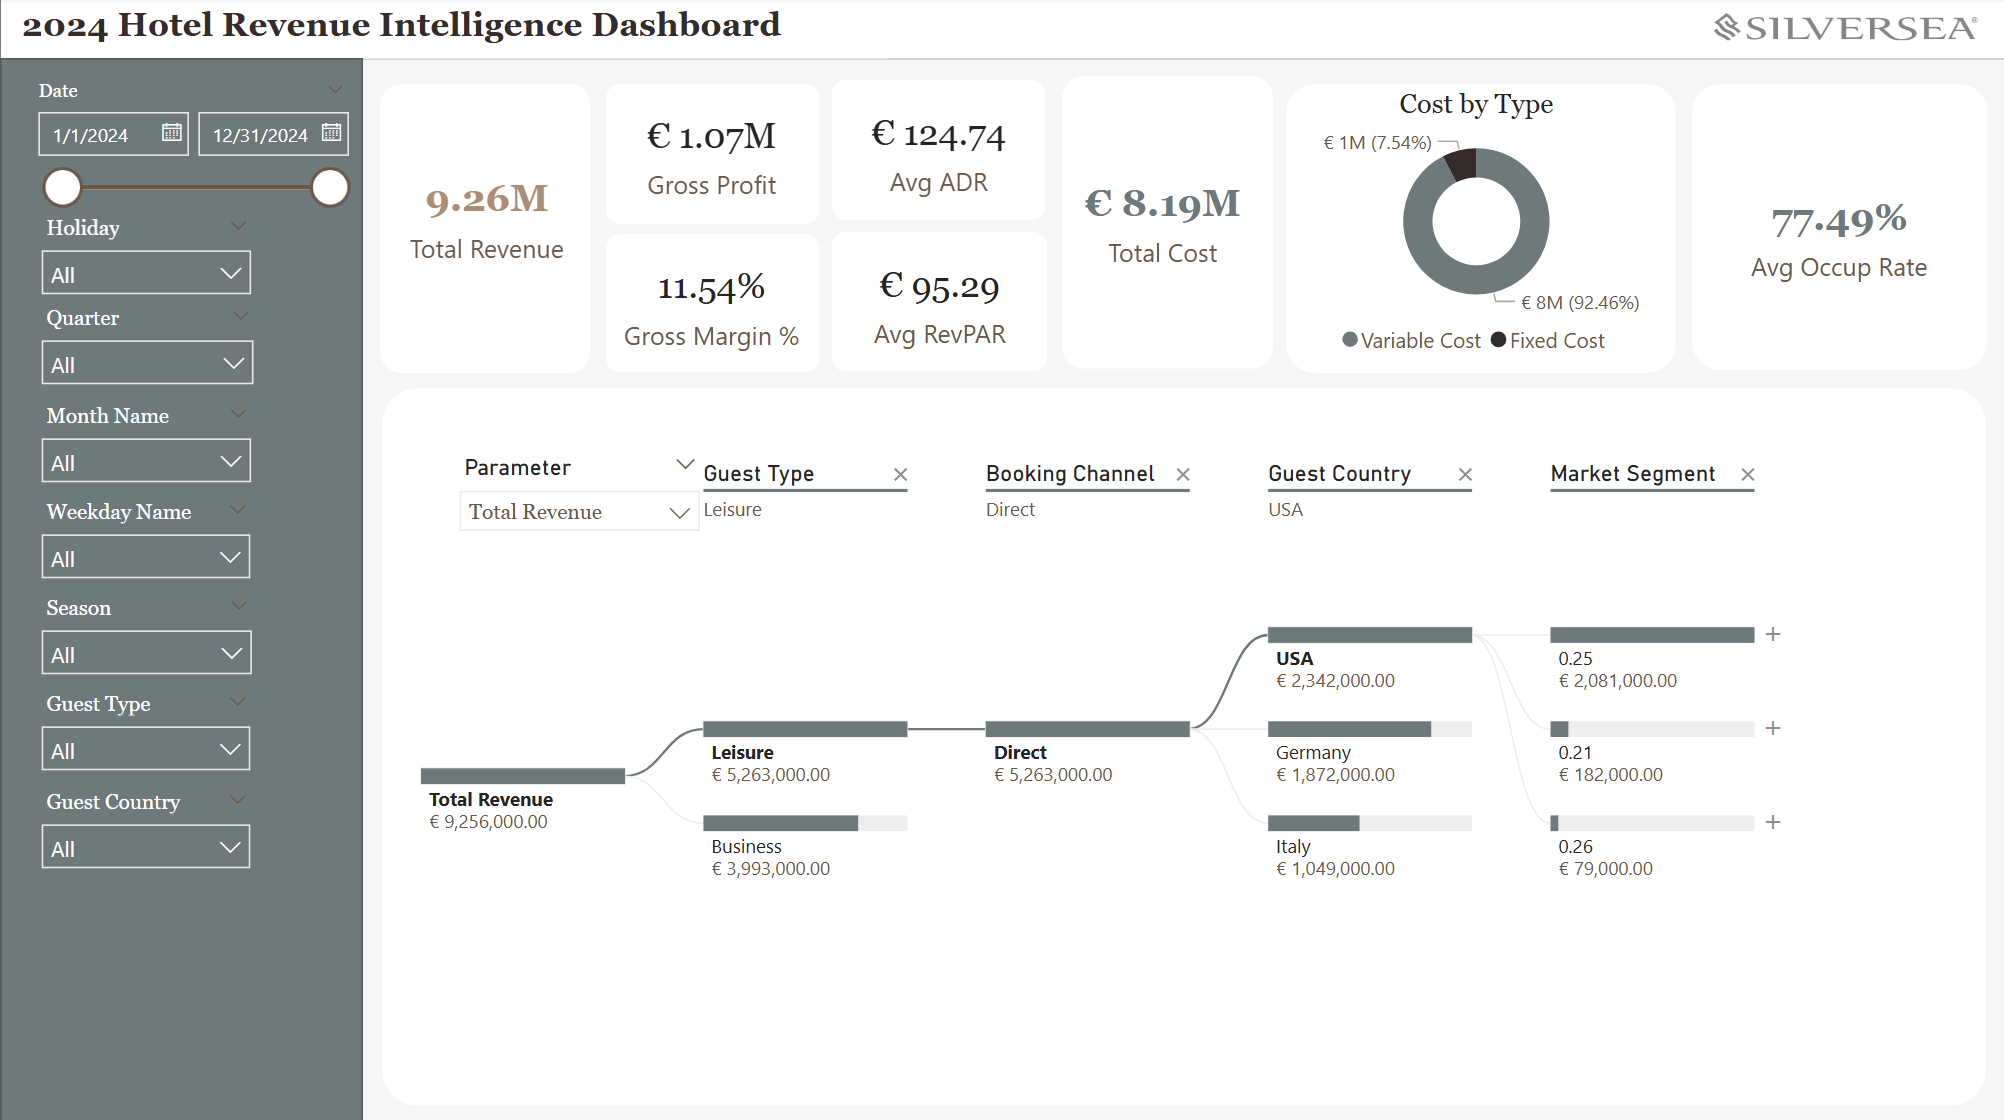

The page's visual inventory and layout, read from the dashboard file:
{"tool":"powerbi","page":{"name":"Deep Dive Analysis - update","canvas":[1280,720],"ordinal":1},"visuals":[{"type":"shape","box":[243.8,250,1022.5,457.5],"z":0},{"type":"shape","box":[0,0,1284.1,40.5],"z":1000},{"type":"textbox","box":[8.6,1.4,557.1,38.6],"z":3000},{"type":"shape","box":[0,40,231.4,680],"z":4000},{"type":"slicer","fields":{"Values":["Date Table.Date"]},"box":[11,48.3,220,121.7],"z":5000},{"type":"slicer","fields":{"Values":["Date Table.Quarter"]},"box":[16.7,193.1,155,68.3],"z":6000},{"type":"slicer","fields":{"Values":["Date Table.MonthName"]},"box":[16.7,254.4,153.3,68.3],"z":7000},{"type":"slicer","fields":{"Values":["Date Table.WeekdayName"]},"box":[16.7,315.8,152.9,68.6],"z":8000},{"type":"slicer","fields":{"Values":["Hotel book.Season"]},"box":[16.7,377.3,153.8,68.7],"z":9000},{"type":"slicer","fields":{"Values":["Hotel book.Guest_Type"]},"box":[16.7,439,152.9,68.6],"z":10000},{"type":"slicer","fields":{"Values":["Hotel book.Guest_Country"]},"box":[16.7,500.6,152.9,68.6],"z":11000},{"type":"slicer","fields":{"Values":["Hotel book.Holiday"]},"box":[16.7,135,153.3,61.7],"z":12000},{"type":"shape","box":[1078.1,56.4,188.6,182.6],"z":13000},{"type":"shape","box":[529.9,150.7,137.3,89.1],"z":14000},{"type":"shape","box":[820.4,55.6,248.6,184.3],"z":15000},{"type":"shape","box":[386.1,55.6,136,89.3],"z":16000},{"type":"shape","box":[386.1,152.1,136.4,88.2],"z":17000},{"type":"shape","box":[529.9,54.2,136,89.3],"z":18000},{"type":"card","fields":{"Values":["Hotel book.Gross Margin %"]},"box":[379.1,139.4,150,114.5],"z":19000},{"type":"card","fields":{"Values":["Hotel book.Avg RevPAR"]},"box":[507.1,123.4,183.6,143.6],"z":20000},{"type":"donutChart","title":"Cost by Type","fields":{"Y":["Hotel book.Variable Cost","Hotel book.Fixed Cost"]},"box":[800.9,59.2,281.2,179.4],"z":21000},{"type":"card","fields":{"Values":["Hotel book.Avg Occup Rate"]},"box":[1081.5,64.4,182.9,174.1],"z":22000},{"type":"shape","box":[242.6,55.6,134.3,184.3],"z":23000},{"type":"card","fields":{"Values":["Hotel book.Total Revenue"]},"box":[216.4,71.2,187.3,137.3],"z":24000},{"type":"shape","box":[676.5,51.2,134.6,186.8],"z":25000},{"type":"card","fields":{"Values":["Hotel book.Total Cost"]},"box":[661.2,87.7,159.1,110],"z":26000},{"type":"card","fields":{"Values":["Hotel book.Total Profit"]},"box":[363.7,30.3,180.9,139.1],"z":27000},{"type":"card","fields":{"Values":["Hotel book.Avg ADR"]},"box":[504.4,26.1,187.3,145.5],"z":28000},{"type":"decompositionTreeVisual","title":"Occupancy Rate & RevPAR Trend","fields":{"Analyze":["DAX.Total Revenue"],"ExplainBy":["Hotel book.Guest_Type","Hotel book.Booking_Channel","Hotel book.Guest_Country","Hotel book.Market_Segment","Date Table.Season","Hotel book.Holiday","Hotel book.Marketing_Spend","Hotel book.Compliment","Hotel book.Complaints"]},"box":[238.6,278.6,1020,414.3],"z":29000},{"type":"slicer","fields":{"Values":["Parameter.Parameter"]},"box":[282.9,287.1,172.9,62.9],"z":30000},{"type":"textbox","box":[17,574.4,199.2,135.9],"z":30001}]}

Visuals, with their boxes in screenshot pixels (x1, y1, x2, y2), scaled from the page's 1280x720 canvas onto the 2004x1120 screenshot:
shape: pyautogui.locateOnScreen(382, 389, 1983, 1101)
shape: pyautogui.locateOnScreen(0, 0, 2003, 63)
textbox: pyautogui.locateOnScreen(13, 2, 886, 62)
shape: pyautogui.locateOnScreen(0, 62, 362, 1119)
slicer - Date Table.Date: pyautogui.locateOnScreen(17, 75, 362, 264)
slicer - Date Table.Quarter: pyautogui.locateOnScreen(26, 300, 269, 407)
slicer - Date Table.MonthName: pyautogui.locateOnScreen(26, 396, 266, 502)
slicer - Date Table.WeekdayName: pyautogui.locateOnScreen(26, 491, 266, 598)
slicer - Hotel book.Season: pyautogui.locateOnScreen(26, 587, 267, 694)
slicer - Hotel book.Guest_Type: pyautogui.locateOnScreen(26, 683, 266, 790)
slicer - Hotel book.Guest_Country: pyautogui.locateOnScreen(26, 779, 266, 885)
slicer - Hotel book.Holiday: pyautogui.locateOnScreen(26, 210, 266, 306)
shape: pyautogui.locateOnScreen(1688, 88, 1983, 372)
shape: pyautogui.locateOnScreen(830, 234, 1045, 373)
shape: pyautogui.locateOnScreen(1284, 86, 1674, 373)
shape: pyautogui.locateOnScreen(604, 86, 817, 225)
shape: pyautogui.locateOnScreen(604, 237, 818, 374)
shape: pyautogui.locateOnScreen(830, 84, 1043, 223)
card - Hotel book.Gross Margin %: pyautogui.locateOnScreen(594, 217, 828, 395)
card - Hotel book.Avg RevPAR: pyautogui.locateOnScreen(794, 192, 1081, 415)
"Cost by Type" donutChart: pyautogui.locateOnScreen(1254, 92, 1694, 371)
card - Hotel book.Avg Occup Rate: pyautogui.locateOnScreen(1693, 100, 1980, 371)
shape: pyautogui.locateOnScreen(380, 86, 590, 373)
card - Hotel book.Total Revenue: pyautogui.locateOnScreen(339, 111, 632, 324)
shape: pyautogui.locateOnScreen(1059, 80, 1270, 370)
card - Hotel book.Total Cost: pyautogui.locateOnScreen(1035, 136, 1284, 308)
card - Hotel book.Total Profit: pyautogui.locateOnScreen(569, 47, 853, 264)
card - Hotel book.Avg ADR: pyautogui.locateOnScreen(790, 41, 1083, 267)
"Occupancy Rate & RevPAR Trend" decompositionTreeVisual: pyautogui.locateOnScreen(374, 433, 1970, 1078)
slicer - Parameter.Parameter: pyautogui.locateOnScreen(443, 447, 714, 544)
textbox: pyautogui.locateOnScreen(27, 894, 338, 1105)
